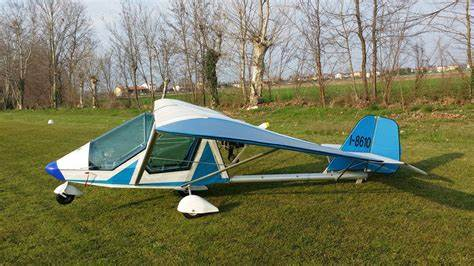Aeronef_de_loisir: (37, 83, 438, 227)
